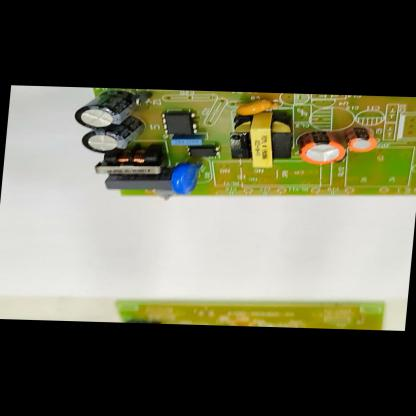Cap1: (293, 126, 348, 167)
Cap2: (346, 127, 381, 155)
Cap3: (78, 113, 146, 156)
Cap4: (71, 89, 142, 131)
MOSFET: (158, 108, 200, 137)
Mov: (166, 161, 205, 197)
Resistor: (156, 188, 176, 202)
Transformer: (225, 110, 296, 169), (88, 146, 168, 180)
